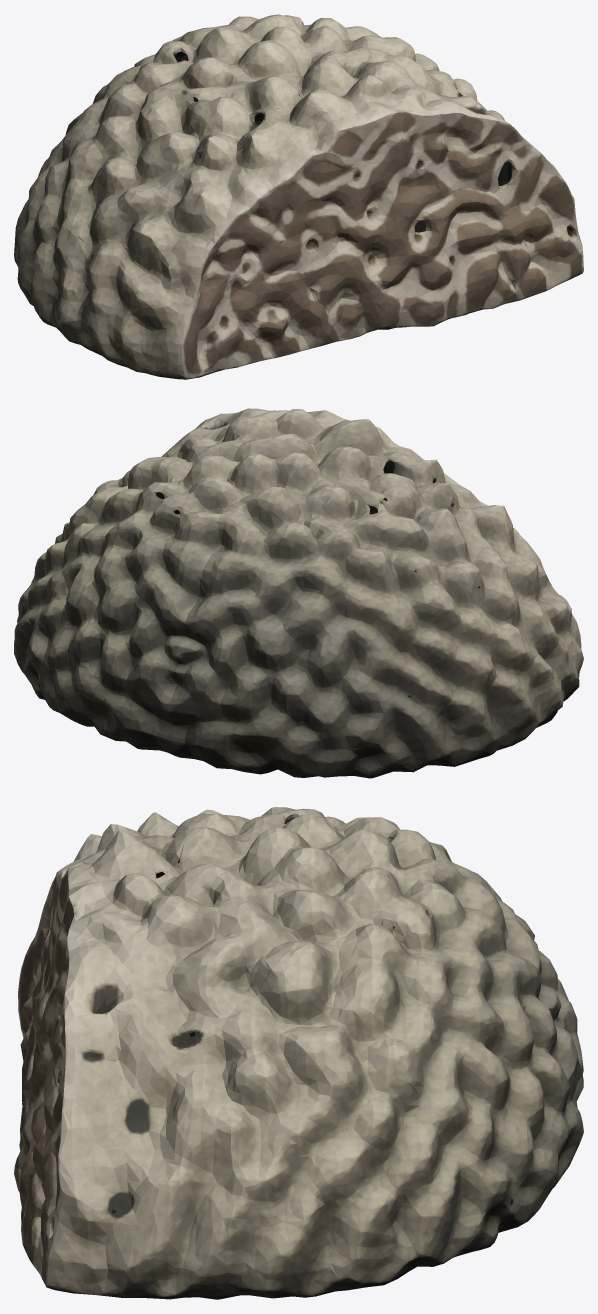
The picture shows the model from 3 angles, top to bottom: view 1: azimuth 30°, elevation 25°; view 2: azimuth 150°, elevation 25°; view 3: azimuth 270°, elevation 25°; orthographic projection. The views are drawn at different scales.
Visible parts, largest first — view 1: world; view 2: world; view 3: world.
Part boxes in pixels (x1,y1,x2,y2): world: (14, 14, 583, 379); world: (14, 408, 583, 778); world: (14, 807, 583, 1299).
Bounding box in the file's own units: 0.9991 × 0.4682 × 0.7451.
1 material, 1 textured.
